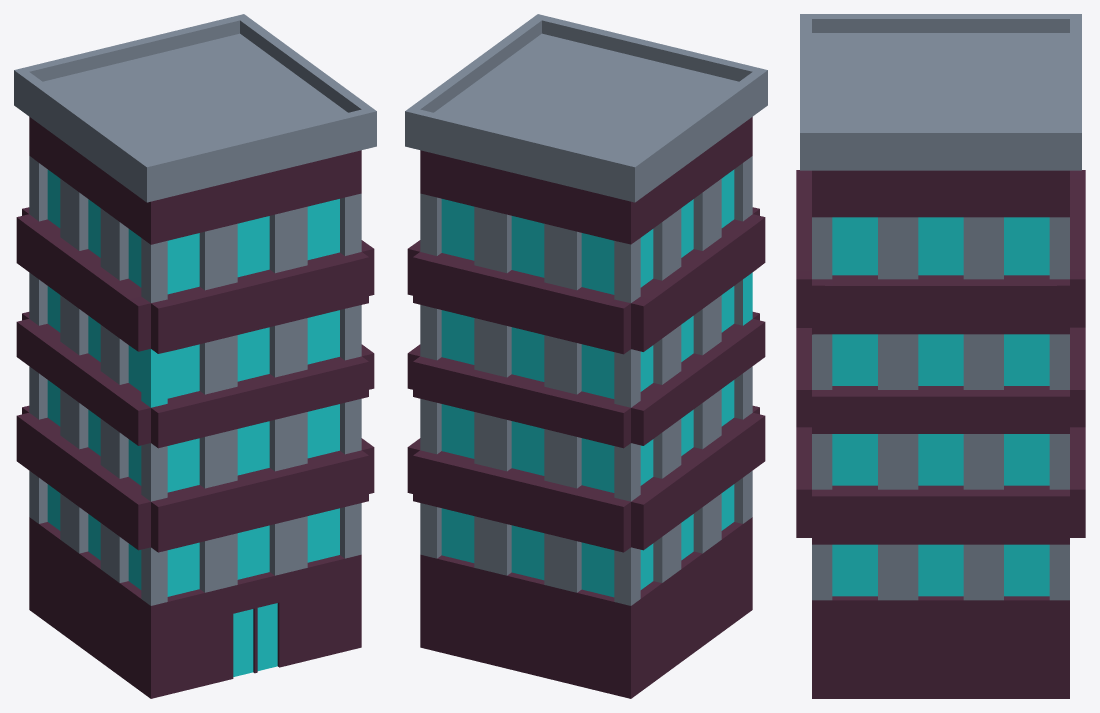
The model's file is Building2_1.fbx.
3 views of the same model, side by side, from view 1: azimuth 30°, elevation 25°; view 2: azimuth 150°, elevation 25°; view 3: azimuth 270°, elevation 25° (orthographic). The views are drawn at different scales.
Visible parts, largest first — view 1: Building2_1; view 2: Building2_1; view 3: Building2_1.
Boxes of the visible parts, x1,y1,x2,y2 form: Building2_1: (14, 14, 376, 698); Building2_1: (405, 14, 767, 698); Building2_1: (796, 14, 1085, 698).
Bounding box in the file's own units: 1347 × 2937 × 1347.
